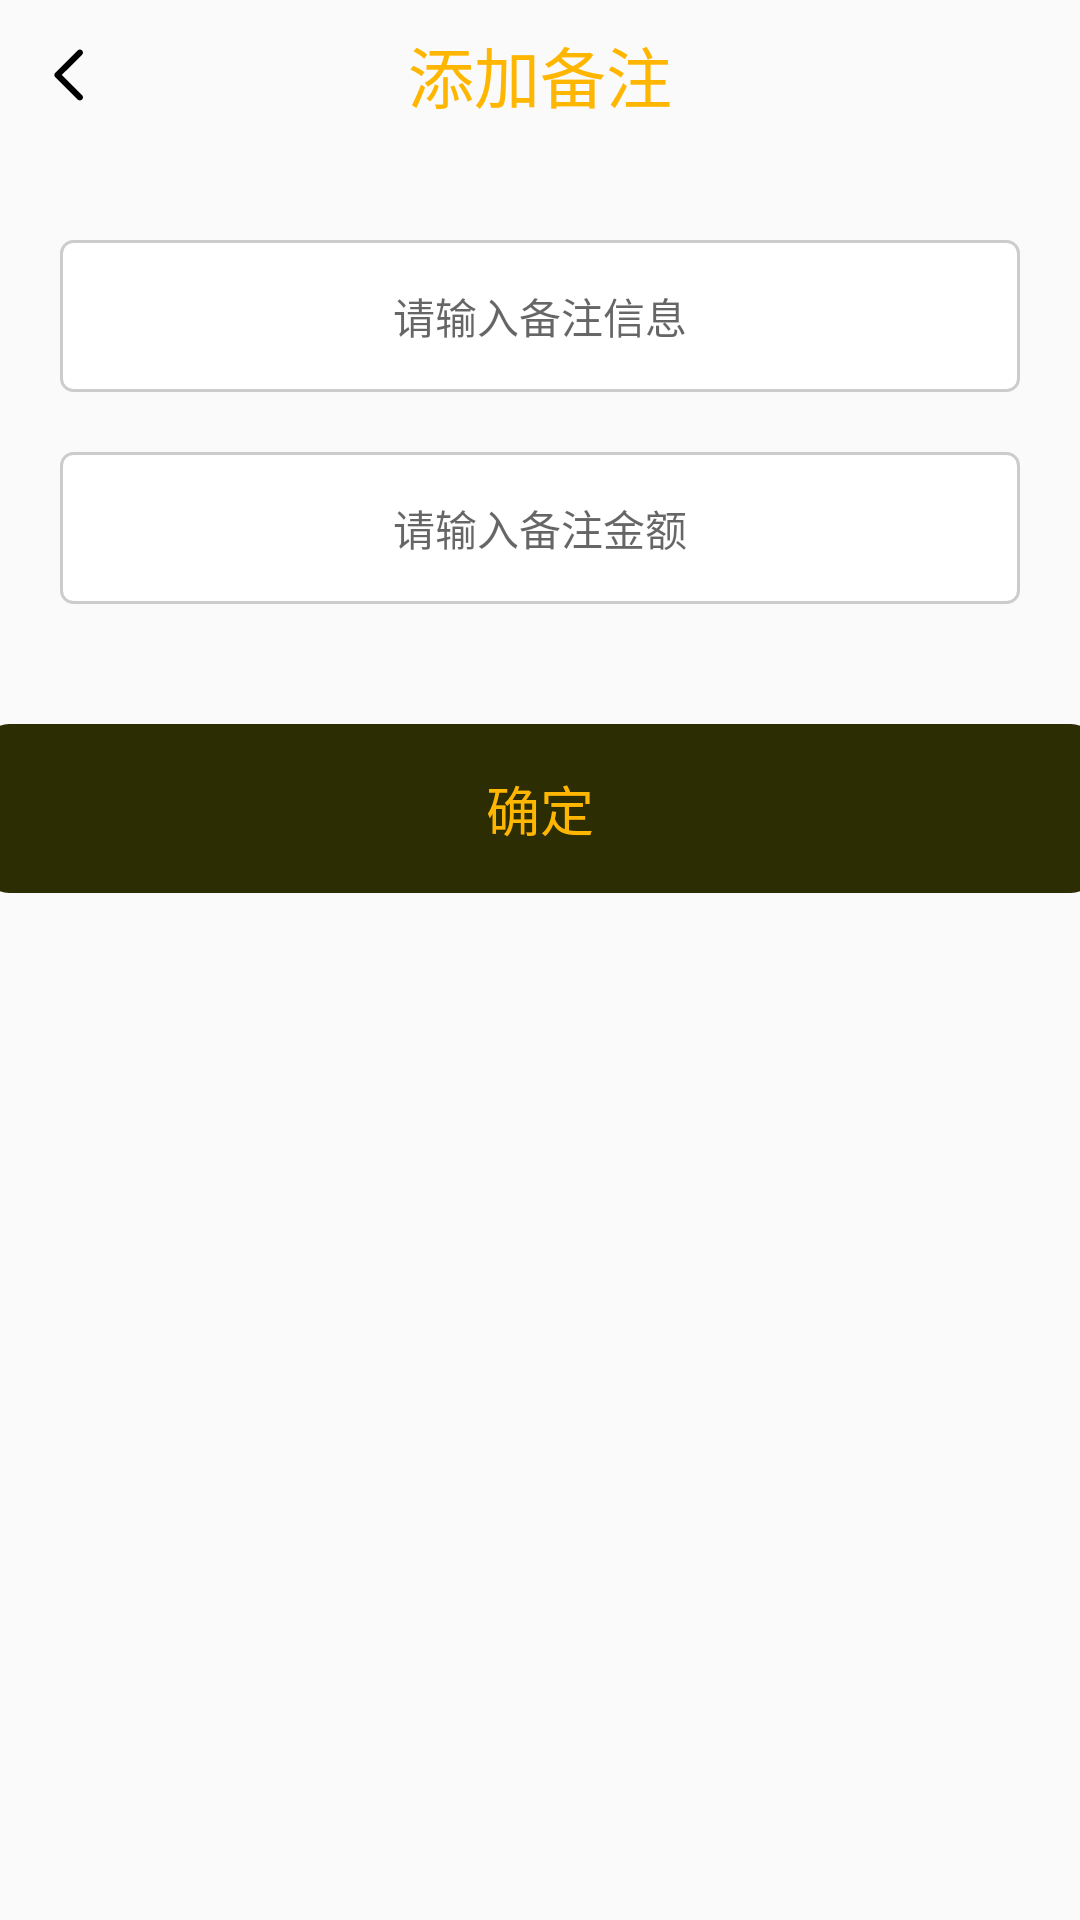

Icons on this 1080×1920 Android screen, each with its box as rect(x1, y1, x2, y2):
back: rect(54, 49, 83, 101)
